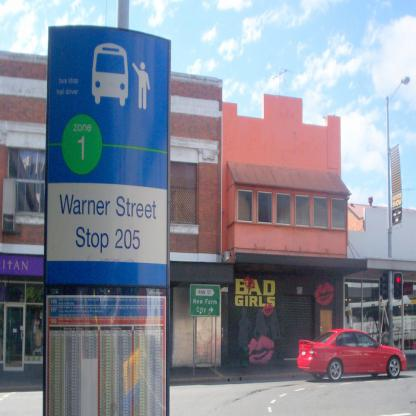Car: (298, 326, 406, 382)
